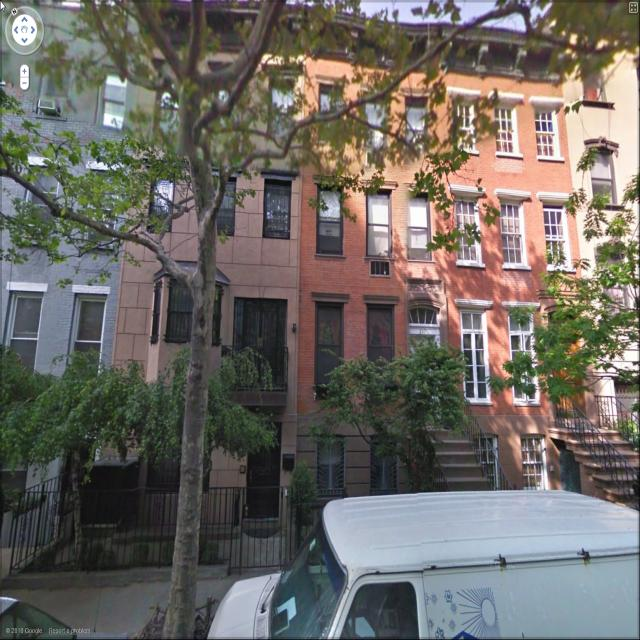b_2: (292, 28, 568, 509), (99, 4, 316, 534), (0, 1, 114, 486), (551, 1, 640, 427)
